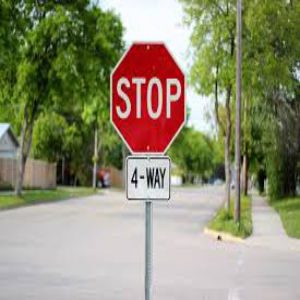STOP_SIGN: (109, 40, 187, 156)
